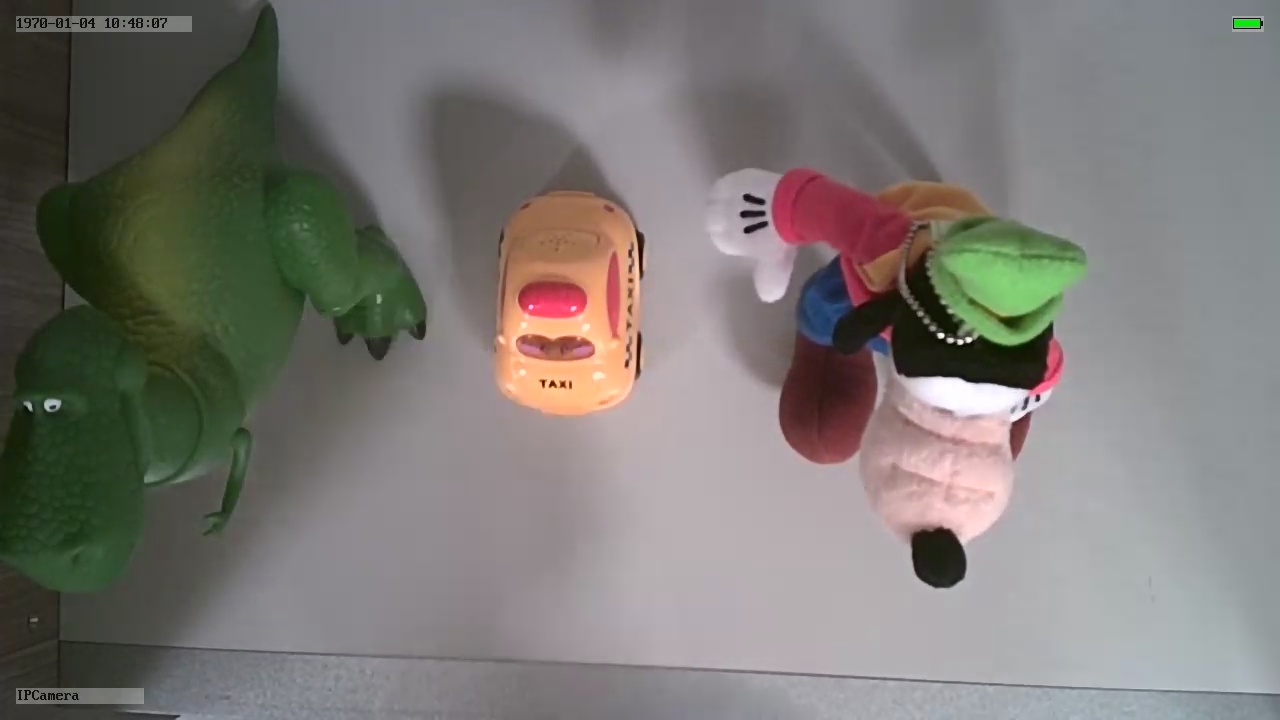car: (490, 184, 649, 420)
goofy: (702, 161, 1093, 600)
rex: (1, 95, 427, 596)
